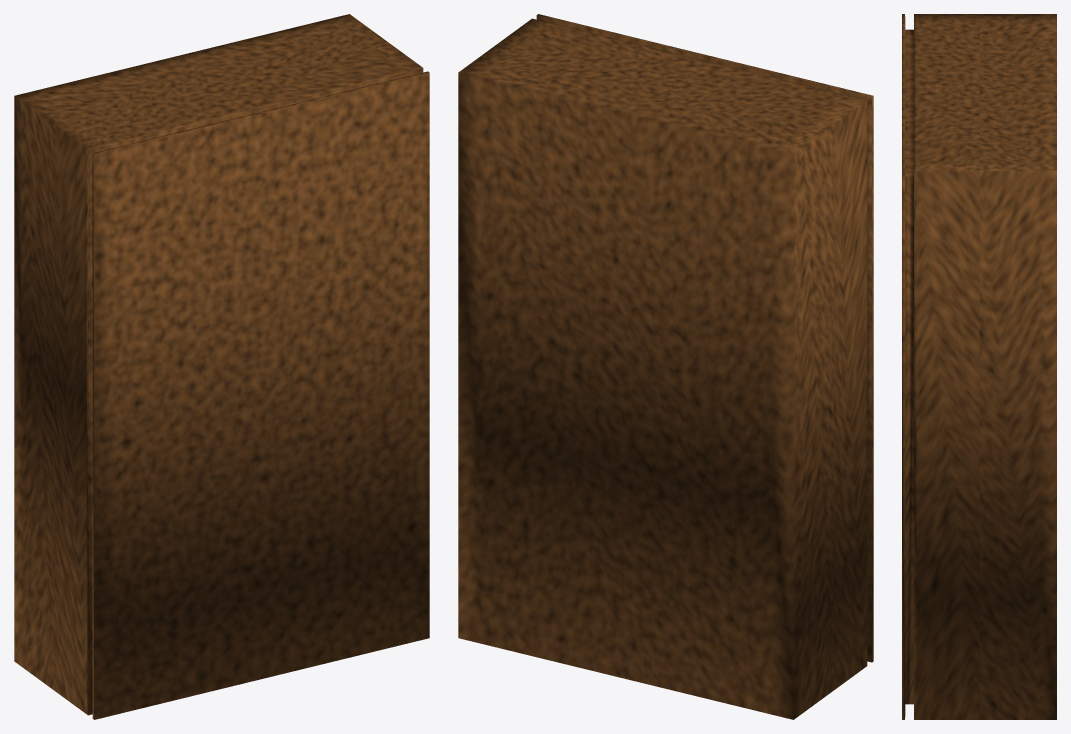
Rendered from KS_Wardrobe.fbx.
The picture shows the model from 3 angles, left to right: view 1: azimuth 30°, elevation 25°; view 2: azimuth 150°, elevation 25°; view 3: azimuth 270°, elevation 25°; orthographic projection. The views are drawn at different scales.
Visible parts, largest first — view 1: KS_Wardrobe; view 2: KS_Wardrobe; view 3: KS_Wardrobe.
Part boxes in pixels (x1,y1,x2,y2): KS_Wardrobe: (14,14,429,719); KS_Wardrobe: (458,14,873,719); KS_Wardrobe: (902,14,1056,719).
Size of the model in its own units: 140 by 225 by 57.71.
